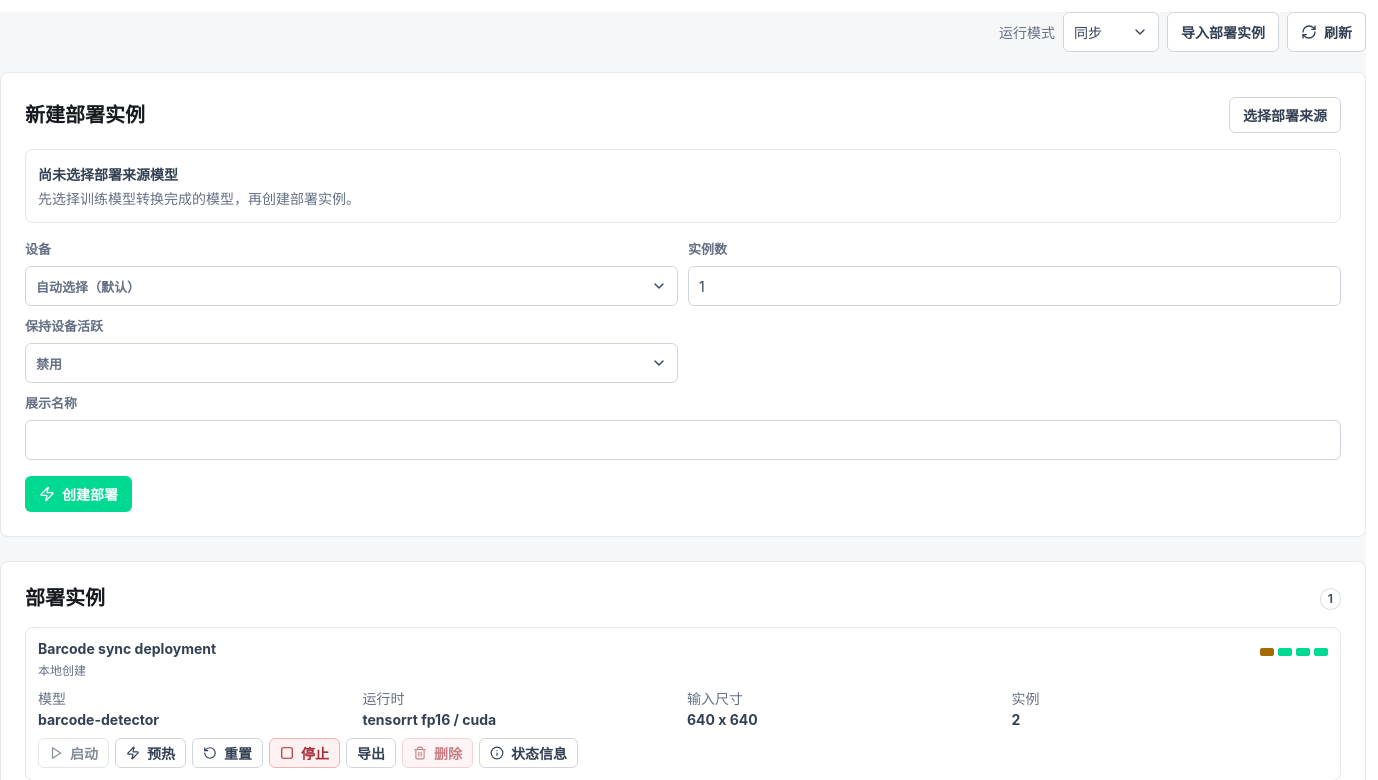
it: DeploymentOperationsPage › localizes runtime mode choices without changing their protocol values
Click the button with class "ui-select__button" showing "同步". click: (1111, 32)
box: [1063,12,1159,52]
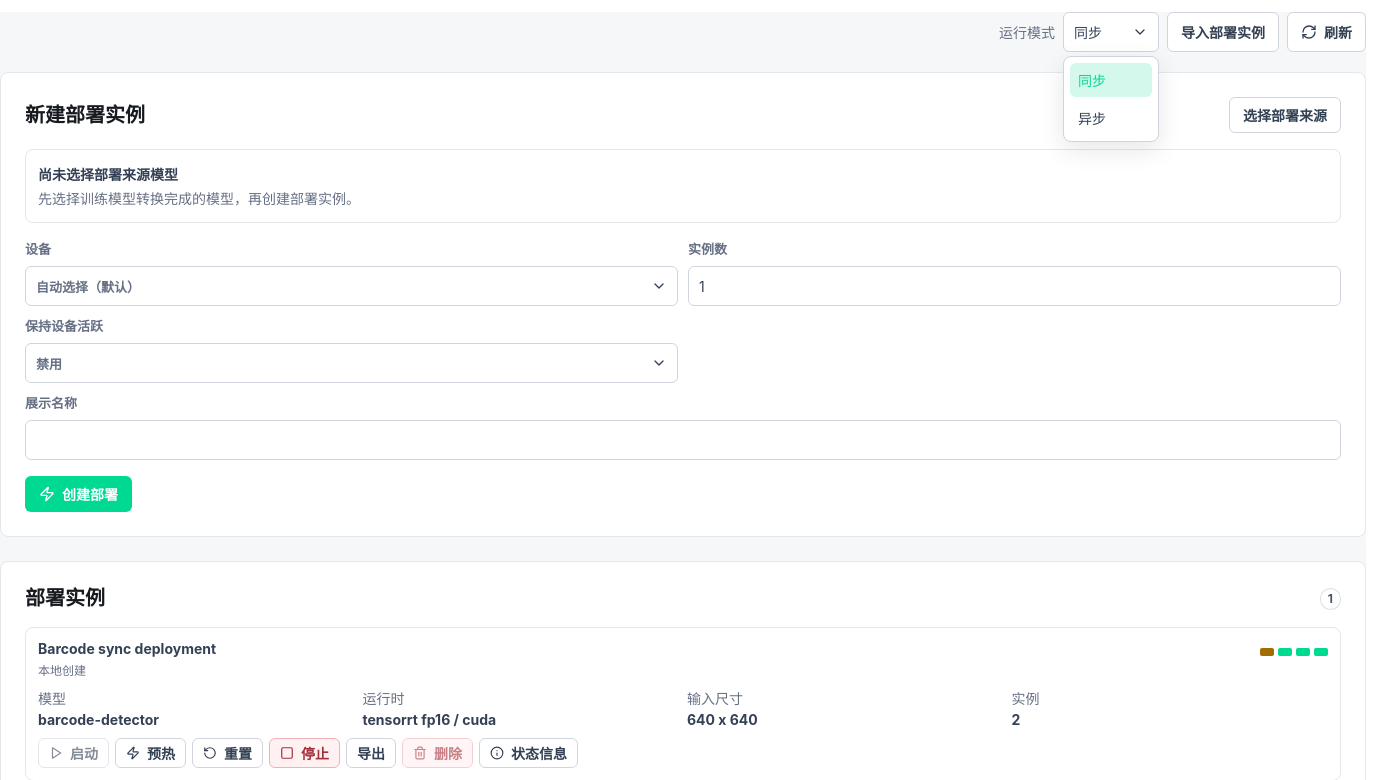
Result: the elements with class "ui-select__option" read "同步", "异步", in this order at [1070,63,1152,97]; [1070,101,1152,135]
